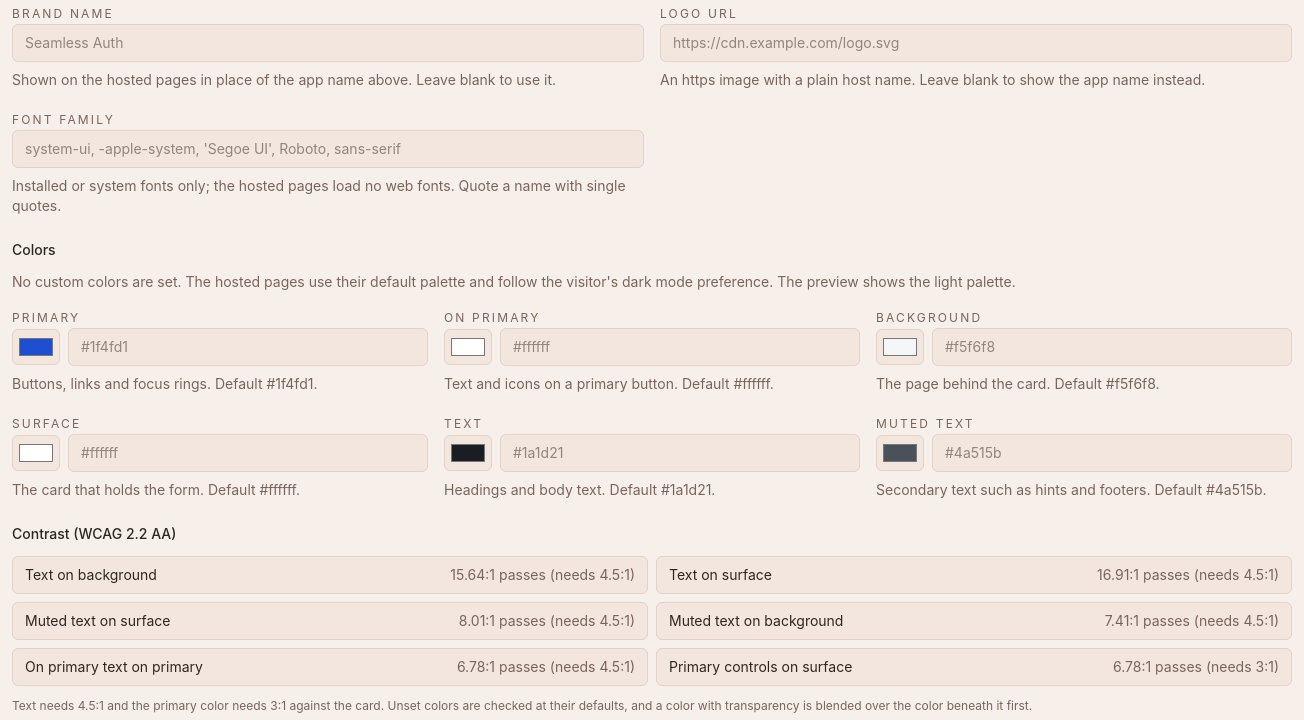
it: HostedUiBrandingEditor › says custom colors turn off the dark palette
The image size is (1304, 720).
Check: the text "follow the visitor's dark mode preference" is shown, box left=12, top=273, right=1016, bottom=290
Step 1. Type "#fff" into the field labelled "Background" → {"x": 1112, "y": 347}, box left=932, top=328, right=1292, bottom=366
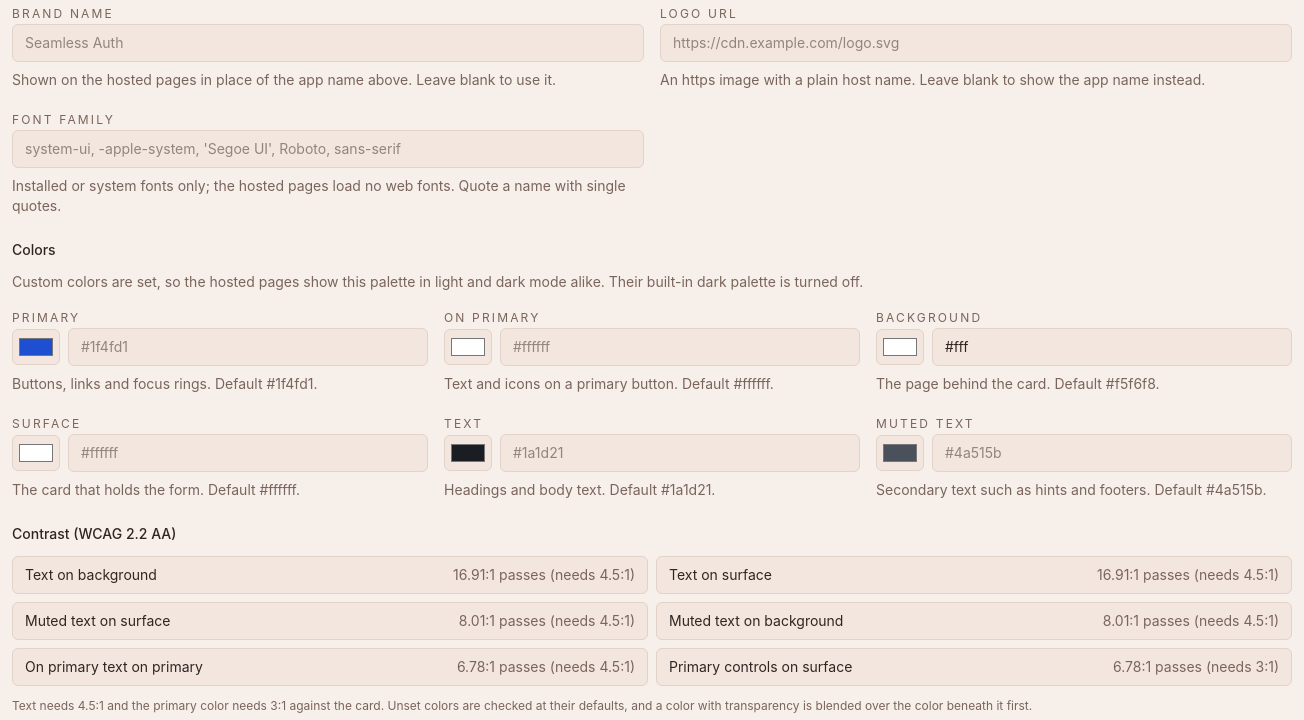
Check: the text "built-in dark palette is turned off" is shown, box left=12, top=273, right=863, bottom=290
